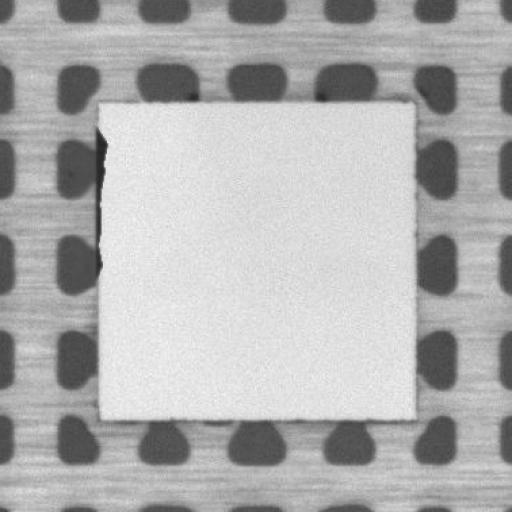DIE_BROKEN: (90, 127, 110, 278)
